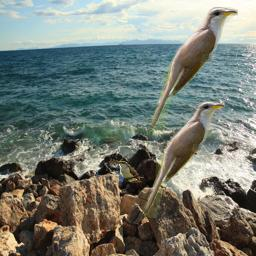Cuckoo: (146, 7, 238, 134), (141, 101, 225, 218), (115, 159, 144, 183)
